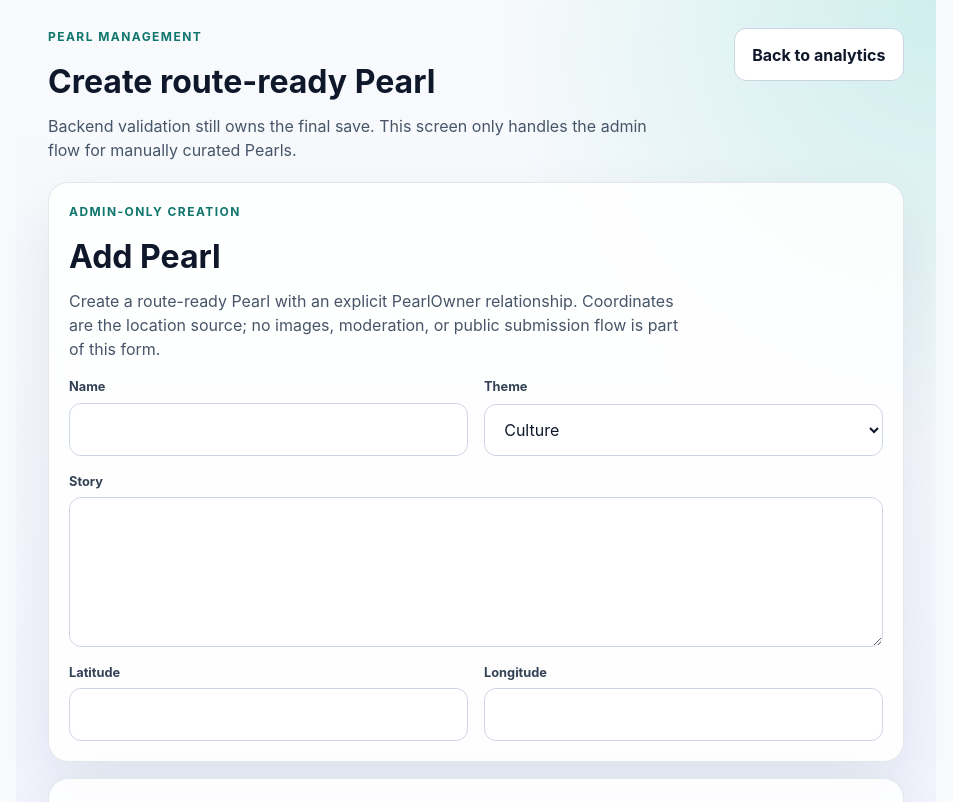
Test case: AdminAddPearlPage › shows backend API errors cleanly
Type "Hidden Courtyard" into the field labelled "Name" at (268, 429), box [69, 403, 468, 456]
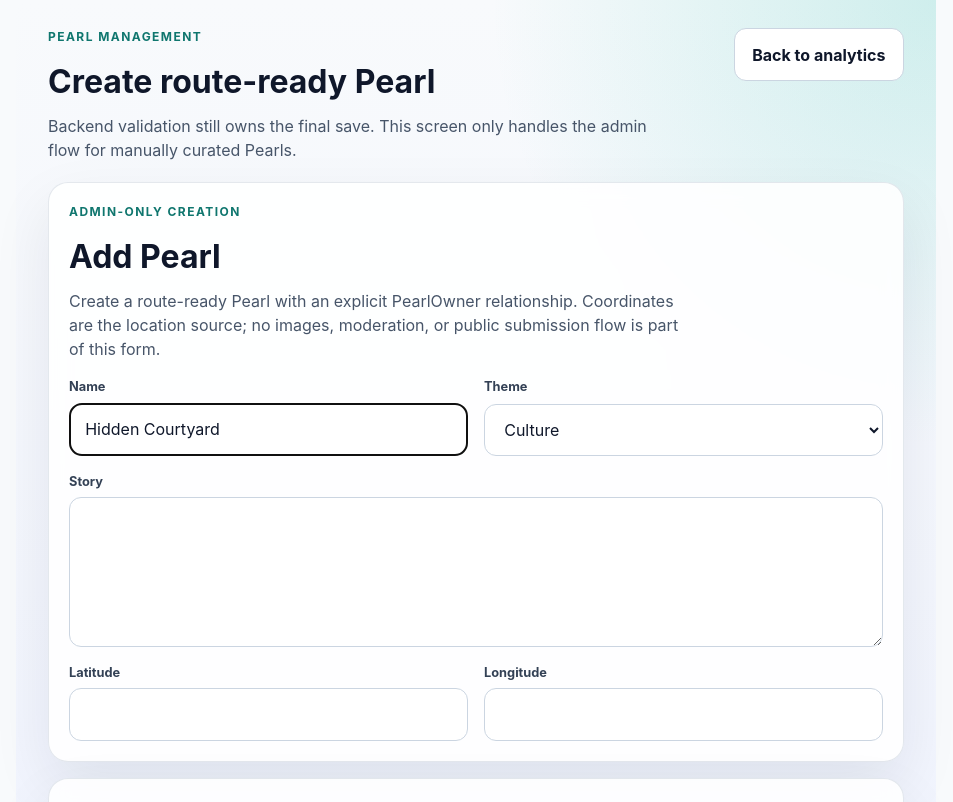
Type "A small story about a quiet courtyard in Brussels." into the text box labelled "Story" at (476, 572), box [69, 497, 883, 646]
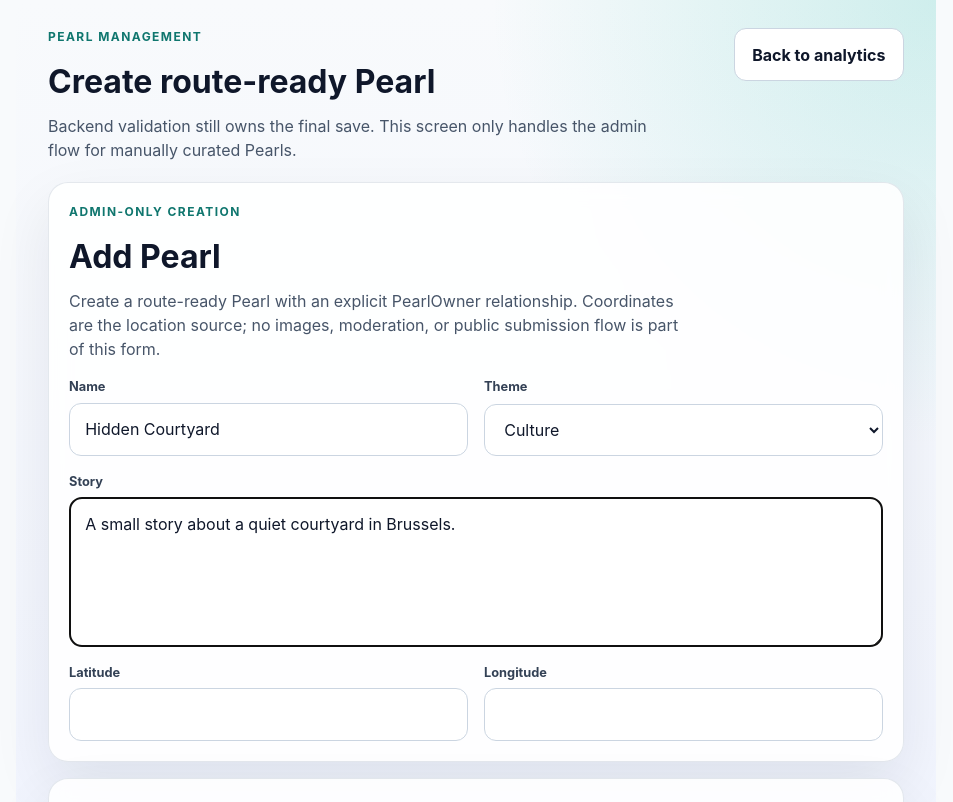
Type "50.8467" into the field labelled "Latitude" at (268, 715), box [69, 688, 468, 741]
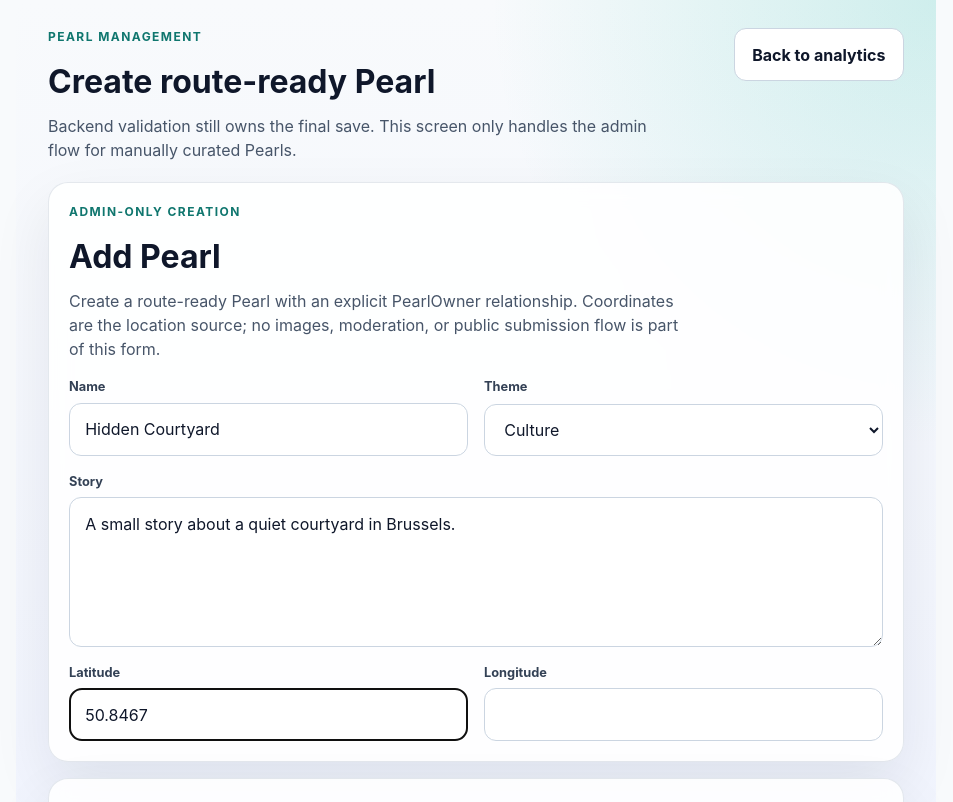
Type "4.3525" into the field labelled "Longitude" at (684, 715), box [484, 688, 883, 741]
(page scrolled)
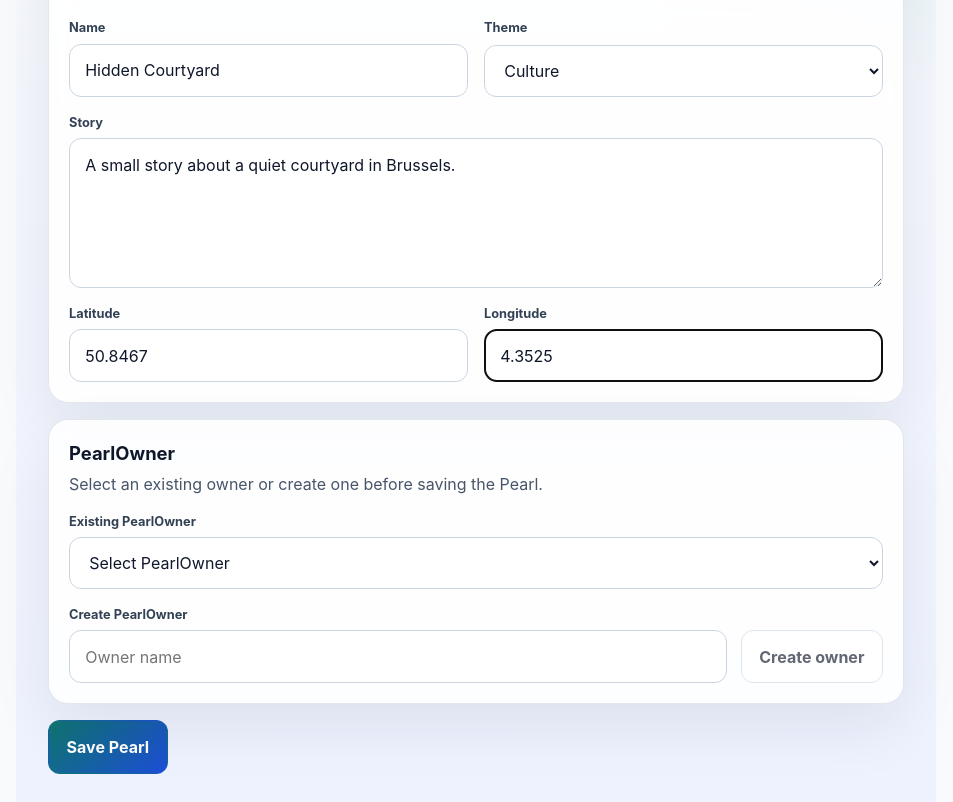
Select "Visit Brussels" in the dropdown labelled "Existing PearlOwner" at (476, 563), box [69, 538, 883, 589]
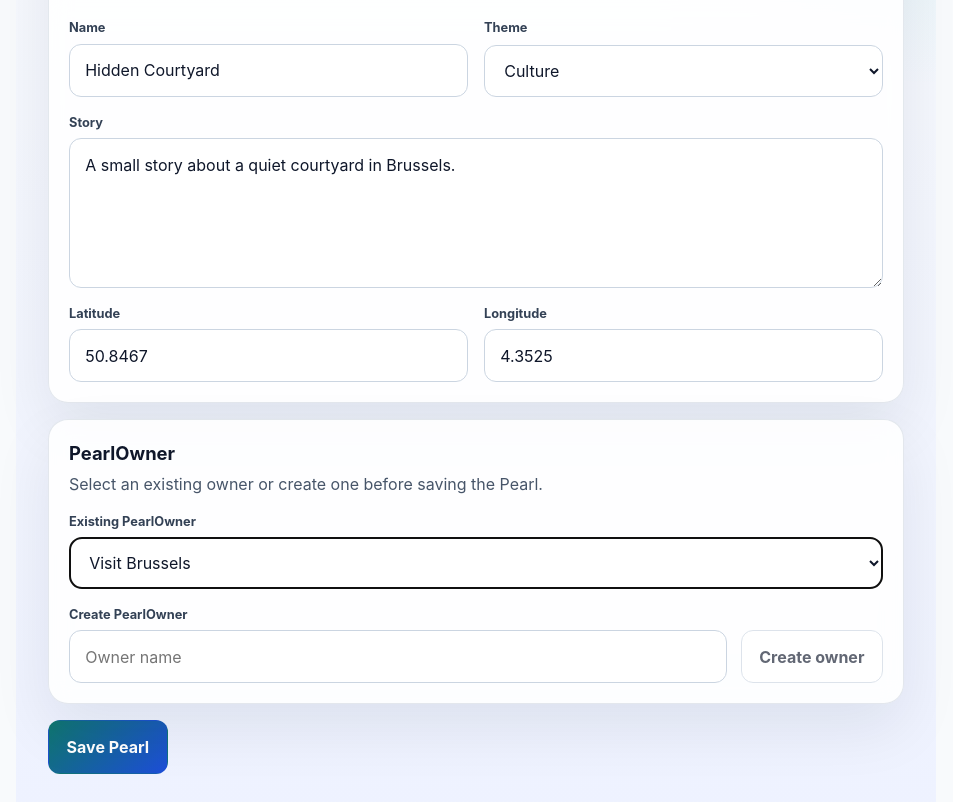
Click the button "Save Pearl" at (108, 747), box [48, 720, 168, 774]
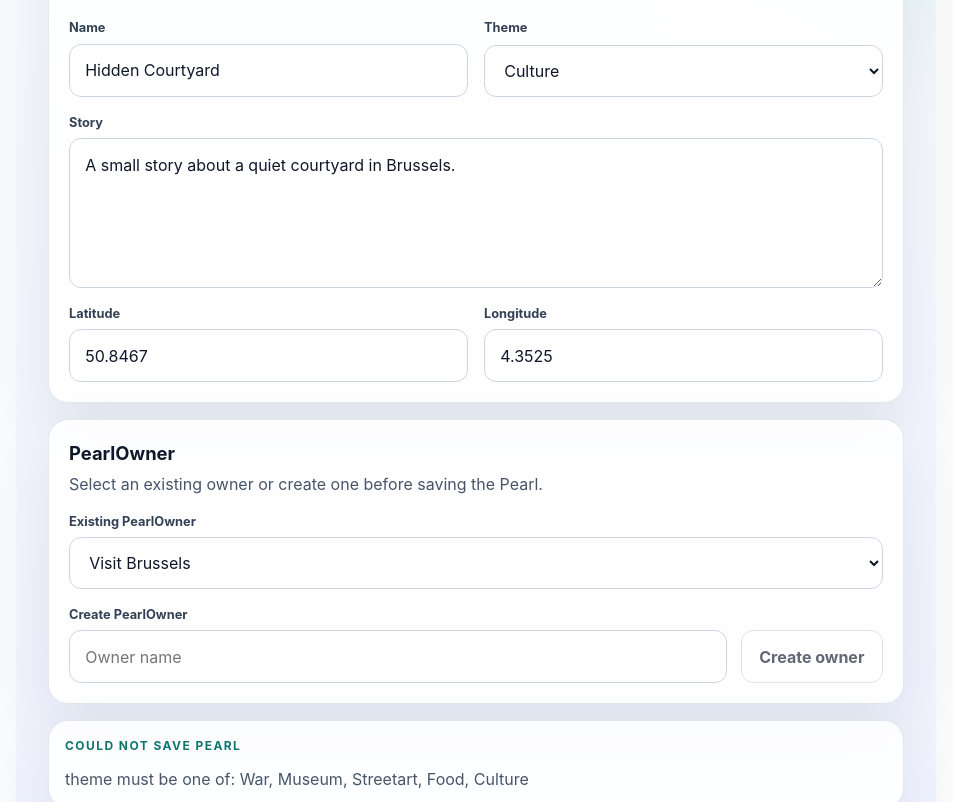
Expected: the text "theme must be one of: War, Museum, Streetart, Food, Culture" is shown, [65, 769, 529, 789]
